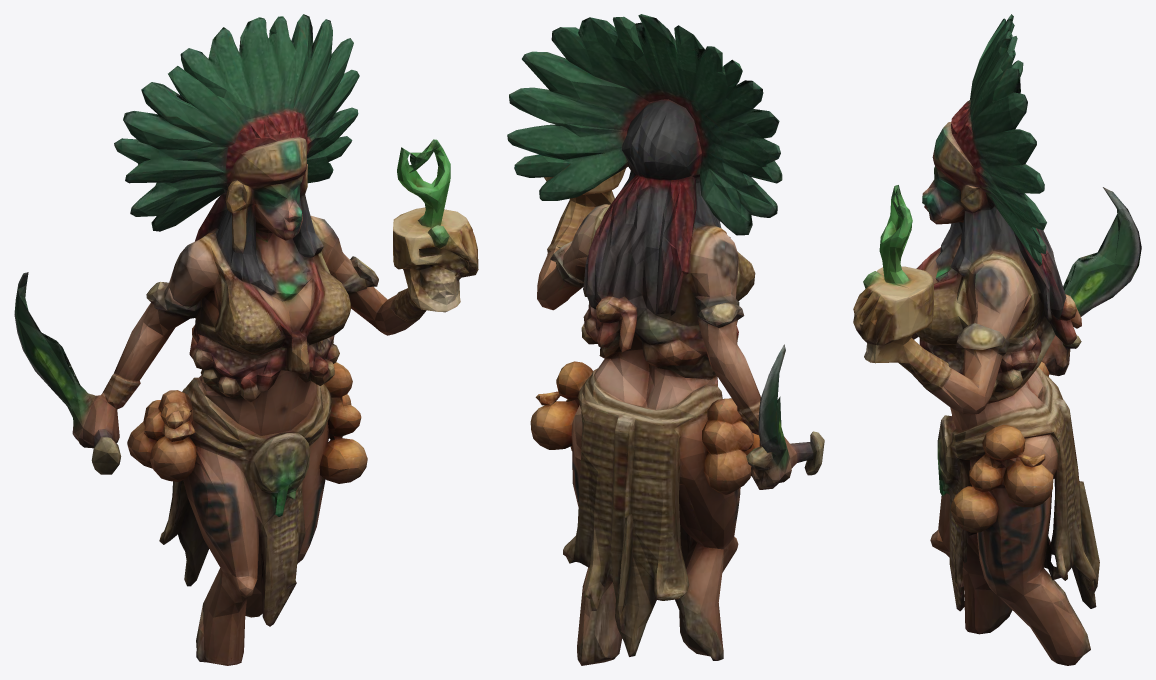
File: xocoPoisoner.glb
3 views of the same model, side by side, from view 1: azimuth 30°, elevation 25°; view 2: azimuth 150°, elevation 25°; view 3: azimuth 270°, elevation 25° (orthographic). The views are drawn at different scales.
Visible parts, largest first — view 1: world; view 2: world; view 3: world.
Part boxes in pixels (x1=…): world: x1=14, y1=14, x2=478, y2=665; world: x1=507, y1=14, x2=824, y2=665; world: x1=853, y1=14, x2=1141, y2=665.
Size of the model in its own units: 0.5759 by 1 by 0.4237.
Materials: 1 (1 with a texture image).
